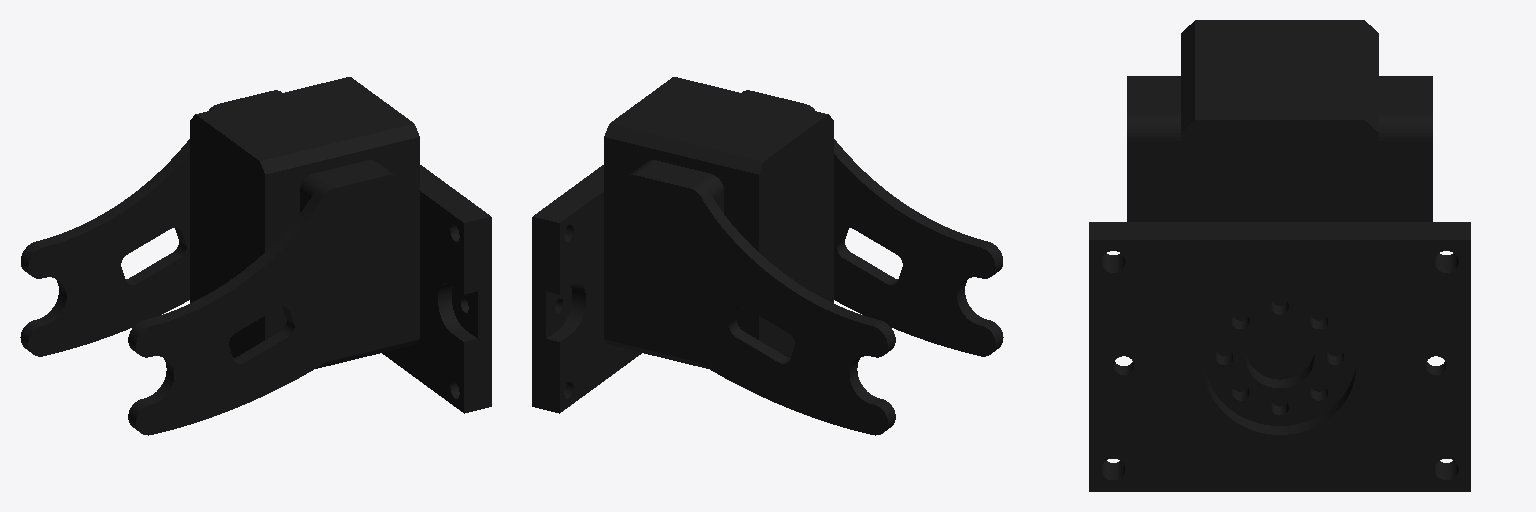
The robot description file, URDF, robot "pincher_x100":
<?xml version="1.0"?>
<robot name="pincher_x100">
    <link name="pincher_x100_base_link">
        <inertial>
            <mass value="0.1"/>
            <!-- origin rpy="0 0 0" xyz="0.0 0.0 0.0"/ -->
            <inertia ixx="0.1" iyy="0.1" izz="0.1" ixy="0.0" ixz="0.0" iyz="0.0"/>
        </inertial>
        <collision name="collision">
            <origin rpy="0.000000 -0.000000 1.5707963267948966" xyz="0.000000 0.000000 0.000000"/>
            <geometry>
                <mesh filename="package://pincher_x100_description/meshes/PXA-100-A-1-Base.stl" scale="0.001 0.001 0.001"/>
            </geometry>
        </collision>
        <visual name="visual">
            <origin rpy="0.000000 -0.000000 1.5707963267948966" xyz="0.000000 0.000000 0.000000"/>
            <geometry>
                <mesh filename="package://pincher_x100_description/meshes/PXA-100-A-1-Base.stl" scale="0.001 0.001 0.001"/>
            </geometry>
            <material name="pincher_black">
                <color rgba="0.15000 0.150000 0.150000 1.000000"/>
            </material>
        </visual>
    </link>
    <joint name="shoulder_yaw_joint" type="revolute">
        <parent link="pincher_x100_base_link"/>
        <child link="shoulder_yaw_link"/>
        <axis xyz="0.000000 0.000000 1.000000"/>
        <!-- [-180,+180] max_trq:=1.5[Nm] max_vel:=6.35[rad/s] -->
        <limit effort="15" velocity="6.35" lower="-3.141592653589793" upper="+3.141592653589793"/>
        <origin rpy="0.000000 0.000000 0.000000" xyz="0.0 0.0 0.050"/>
    </joint>
    <link name="shoulder_yaw_link">
        <inertial>
            <mass value="0.1"/>
            <!-- origin rpy="0 0 0" xyz="0.0 0.0 0.0"/ -->
            <inertia ixx="0.1" iyy="0.1" izz="0.1" ixy="0.0" ixz="0.0" iyz="0.0"/>
        </inertial>
        <collision name="collision">
            <origin rpy="0.000000 -0.000000 1.5707963267948966" xyz="0.000000 0.000000 0.000000"/>
            <geometry>
                <mesh filename="package://pincher_x100_description/meshes/PXA-100-A-2-Shoulder.stl" scale="0.001 0.001 0.001"/>
            </geometry>
        </collision>
        <visual name="visual">
            <origin rpy="0.000000 -0.000000 1.5707963267948966" xyz="0.000000 0.000000 0.000000"/>
            <geometry>
                <mesh filename="package://pincher_x100_description/meshes/PXA-100-A-2-Shoulder.stl" scale="0.001 0.001 0.001"/>
            </geometry>
            <material name="pincher_black" />
        </visual>
    </link>
    <joint name="shoulder_pitch_joint" type="revolute">
        <parent link="shoulder_yaw_link"/>
        <child link="shoulder_pitch_link"/>
        <axis xyz="0.000000 1.000000 0.000000"/>
        <!-- [-96,+115] max_trq:=1.5[Nm] max_vel:=6.35[rad/s] -->
        <limit effort="15" velocity="6.35" lower="-1.6755160819145565" upper="2.007128639793479"/>
        <!-- origin rpy="0.000000 0.000000 0.000000" xyz="0.0 0.0 0.03945"/-->
        <origin rpy="0.000000 0.000000 0.000000" xyz="0.0 0.0 0.0430"/>
    </joint>
    <link name="shoulder_pitch_link">
        <inertial>
            <mass value="0.1"/>
            <!-- origin rpy="0 0 0" xyz="0.0 0.0 0.0"/ -->
            <inertia ixx="0.1" iyy="0.1" izz="0.1" ixy="0.0" ixz="0.0" iyz="0.0"/>
        </inertial>
        <collision name="collision">
            <origin rpy="0.000000 -0.000000 1.5707963267948966" xyz="0.000000 0.000000 0.000000"/>
            <geometry>
                <mesh filename="package://pincher_x100_description/meshes/PXA-100-A-3-UA.stl" scale="0.001 0.001 0.001"/>
            </geometry>
        </collision>
        <visual name="visual">
            <origin rpy="0.000000 -0.000000 1.5707963267948966" xyz="0.000000 0.000000 0.000000"/>
            <geometry>
                <mesh filename="package://pincher_x100_description/meshes/PXA-100-A-3-UA.stl" scale="0.001 0.001 0.001"/>
            </geometry>
            <material name="pincher_black" />
        </visual>
    </link>
    <joint name="elbow_pitch_joint" type="revolute">
        <parent link="shoulder_pitch_link"/>
        <child link="elbow_pitch_link"/>
        <axis xyz="0.000000 1.000000 0.000000"/>
        <!-- [-120,+90] max_trq:=1.5[Nm] max_vel:=6.35[rad/s] -->
        <limit effort="15" velocity="6.35" lower="-2.0943951023931953" upper="1.5707963267948966"/>
        <origin rpy="0.000000 0.000000 0.000000" xyz="0.035 0.0 0.100"/>
    </joint>
    <link name="elbow_pitch_link">
        <inertial>
            <mass value="0.1"/>
            <!-- origin rpy="0 0 0" xyz="0.0 0.0 0.0"/ -->
            <inertia ixx="0.1" iyy="0.1" izz="0.1" ixy="0.0" ixz="0.0" iyz="0.0"/>
        </inertial>
        <collision name="collision">
            <origin rpy="0.000000 -0.000000 1.5707963267948966" xyz="0.000000 0.000000 0.000000"/>
            <geometry>
                <mesh filename="package://pincher_x100_description/meshes/PXA-100-A-4-Forearm.stl" scale="0.001 0.001 0.001"/>
            </geometry>
        </collision>
        <visual name="visual">
            <origin rpy="0.000000 -0.000000 1.5707963267948966" xyz="0.000000 0.000000 0.000000"/>
            <geometry>
                <mesh filename="package://pincher_x100_description/meshes/PXA-100-A-4-Forearm.stl" scale="0.001 0.001 0.001"/>
            </geometry>
            <material name="pincher_black" />
        </visual>
    </link>
    <joint name="wrist_pitch_joint" type="revolute">
        <parent link="elbow_pitch_link"/>
        <child link="wrist_pitch_link"/>
        <axis xyz="0.000000 1.000000 0.000000"/>
        <!-- [-110,+130] max_trq:=1.5[Nm] max_vel:=6.35[rad/s] -->
        <limit effort="15" velocity="6.35" lower="-1.9198621771937625" upper="2.2689280275926285"/>
        <origin rpy="0.000000 0.000000 0.000000" xyz="0.100 0.0 0.0"/>
    </joint>
    <link name="wrist_pitch_link">
        <inertial>
            <mass value="0.1"/>
            <!-- origin rpy="0 0 0" xyz="0.0 0.0 0.0"/ -->
            <inertia ixx="0.1" iyy="0.1" izz="0.1" ixy="0.0" ixz="0.0" iyz="0.0"/>
        </inertial>
        <collision name="collision">
            <origin rpy="0.000000 -0.000000 1.5707963267948966" xyz="0.000000 0.000000 0.000000"/>
            <geometry>
                <mesh filename="package://pincher_x100_description/meshes/px100_srg.stl" scale="0.001 0.001 0.001"/>
            </geometry>
        </collision>
        <visual name="visual">
            <origin rpy="0.000000 -0.000000 1.5707963267948966" xyz="0.000000 0.000000 0.000000"/>
            <geometry>
                <mesh filename="package://pincher_x100_description/meshes/px100_srg.stl" scale="0.001 0.001 0.001"/>
            </geometry>
            <material name="pincher_black" />
        </visual>
    </link>
    <joint name="wrist_roll_joint" type="revolute">
        <parent link="wrist_pitch_link"/>
        <child link="wrist_roll_link"/>
        <axis xyz="1.000000 0.000000 0.000000"/>
        <!-- [-180,+180] max_trq:=1.5[Nm] max_vel:=6.35[rad/s] -->
        <limit effort="15" velocity="6.35" lower="-3.1415" upper="3.1415"/>
        <origin rpy="0.000000 0.000000 0.000000" xyz="0.0655 0.0 0.0"/>
    </joint>
    <link name="wrist_roll_link">
        <inertial>
            <mass value="0.1"/>
            <!-- origin rpy="0 0 0" xyz="0.0 0.0 0.0"/ -->
            <inertia ixx="0.1" iyy="0.1" izz="0.1" ixy="0.0" ixz="0.0" iyz="0.0"/>
        </inertial>
        <collision name="collision1">
            <origin rpy="1.5707963267948966 0.000000 1.5707963267948966" xyz="0.003 0.000000 0.000000"/>
            <geometry>
                <mesh filename="package://pincher_x100_description/meshes/camera_d435_mount2.stl" scale="0.001 0.001 0.001"/>
            </geometry>
            <material name="pincher_black" />
        </collision>
        <collision name="collision2">
            <origin rpy="1.5707963267948966 0.000000 1.5707963267948966" xyz="0.006 0.000000 0.000000"/>
            <geometry>
                <mesh filename="package://pincher_x100_description/meshes/camera_d435_mount.stl" scale="0.001 0.001 0.001"/>
            </geometry>
            <material name="pincher_black" />
        </collision>
        <!--
        <collision name="collision">
            <origin rpy="1.5707963267948966 0.0 1.5707963267948966" xyz="0.03105 0.000000 0.000000"/>
            <geometry>
                <mesh filename="package://realsense2_camera/meshes/d435.dae" scale="1 1 1"/>
            </geometry>
        </collision>
        -->
        <visual name="visual1">
            <origin rpy="1.5707963267948966 0.000000 1.5707963267948966" xyz="0.003 0.000000 0.000000"/>
            <geometry>
                <mesh filename="package://pincher_x100_description/meshes/camera_d435_mount2.stl" scale="0.001 0.001 0.001"/>
            </geometry>
            <material name="pincher_black" />
        </visual>
        <visual name="visual2">
            <origin rpy="1.5707963267948966 0.000000 1.5707963267948966" xyz="0.006 0.000000 0.000000"/>
            <geometry>
                <mesh filename="package://pincher_x100_description/meshes/camera_d435_mount.stl" scale="0.001 0.001 0.001"/>
            </geometry>
            <material name="pincher_black" />
        </visual>
        <!--
        <visual name="visual3">
            <!- - x = 0.02505 + 0.006 - ->
            <origin rpy="1.5707963267948966 0.0 1.5707963267948966" xyz="0.03105 0.000000 0.000000"/>
            <geometry>
                <mesh filename="package://realsense2_camera/meshes/d435.dae" scale="1 1 1"/>
            </geometry>
            <material name="pincher_black" />
        </visual>
        -->
    </link>
    <joint name="wrist_depth_optical_frame_joint" type="fixed">
        <parent link="wrist_roll_link"/>
        <child link="wrist_depth_optical_frame"/>
        <origin rpy="-1.5707963267948966 0.000000 -1.5707963267948966" xyz="0.0 0.0 0.0"/>
    </joint>
    <link name="wrist_depth_optical_frame" />
</robot>

--- Render facts (derived) ---
Views: 3 orthographic renders of the robot side by side, from view 1: azimuth 30°, elevation 25°; view 2: azimuth 150°, elevation 25°; view 3: azimuth 270°, elevation 25°.
Model pincher_x100 with 7 links and 6 joints (5 revolute, 1 fixed), rooted at pincher_x100_base_link, posed all joints at 0.
Visible links, largest first — view 1: wrist_pitch_link, wrist_roll_link; view 2: wrist_pitch_link, wrist_roll_link; view 3: wrist_roll_link, wrist_pitch_link.
Link boxes in pixels (x1=…): wrist_pitch_link: x1=20, y1=77, x2=419, y2=435; wrist_roll_link: x1=382, y1=165, x2=491, y2=413; wrist_pitch_link: x1=604, y1=77, x2=1003, y2=435; wrist_roll_link: x1=532, y1=165, x2=641, y2=413; wrist_roll_link: x1=1089, y1=222, x2=1470, y2=491; wrist_pitch_link: x1=1127, y1=20, x2=1432, y2=406.
Bounding box of the posed robot: 0.0749 × 0.055 × 0.0553 m (x, y, z).
3 mesh visuals loaded from 7 distinct referenced files (3 binary STL); not drawn: 4 (reference not matched to a file when rendering).